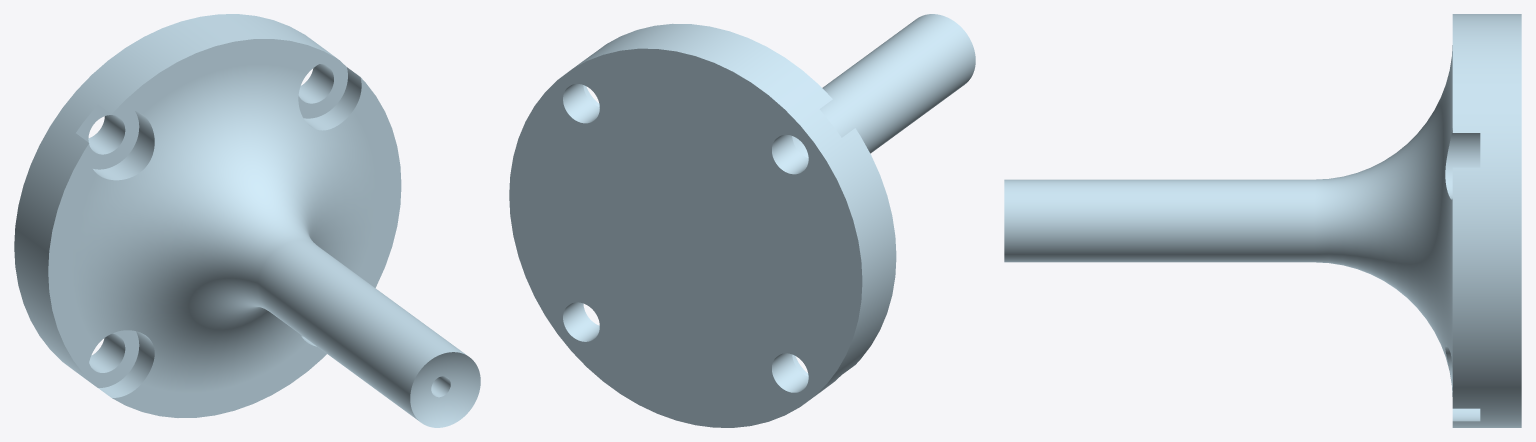
Rendered from pusher_body.gltf.
The picture shows the model from 3 angles, left to right: view 1: azimuth 30°, elevation 25°; view 2: azimuth 150°, elevation 25°; view 3: azimuth 270°, elevation 25°; orthographic projection.
Visible parts, largest first — view 1: mesh4, mesh13, mesh3, mesh7, mesh8, mesh5, mesh6, mesh2, mesh21, mesh12, mesh9, mesh11 (+5 smaller); view 2: mesh20, mesh13, mesh3, mesh19, mesh17, mesh15, mesh22; view 3: mesh13, mesh3, mesh4, mesh11, mesh10.
Part boxes in pixels (left/top/right/bottom): mesh4: left=71, top=64, right=377, bottom=392; mesh13: left=14, top=14, right=335, bottom=379; mesh3: left=257, top=240, right=466, bottom=421; mesh7: left=48, top=144, right=95, bottom=379; mesh8: left=112, top=39, right=337, bottom=113; mesh5: left=112, top=343, right=326, bottom=417; mesh6: left=353, top=77, right=401, bottom=287; mesh2: left=410, top=352, right=480, bottom=427; mesh21: left=76, top=104, right=139, bottom=169; mesh12: left=93, top=111, right=154, bottom=180; mesh9: left=98, top=331, right=154, bottom=397; mesh11: left=303, top=67, right=361, bottom=130; mesh20: left=509, top=48, right=862, bottom=427; mesh13: left=573, top=23, right=896, bottom=399; mesh3: left=819, top=14, right=975, bottom=153; mesh19: left=563, top=84, right=599, bottom=123; mesh17: left=563, top=302, right=599, bottom=341; mesh15: left=772, top=353, right=808, bottom=392; mesh22: left=772, top=134, right=808, bottom=174; mesh13: left=1452, top=14, right=1521, bottom=427; mesh3: left=1004, top=179, right=1314, bottom=262; mesh4: left=1314, top=45, right=1452, bottom=396; mesh11: left=1445, top=128, right=1480, bottom=199; mesh10: left=1445, top=346, right=1480, bottom=421.
Bounding box in the file's own units: 0.06 × 0.0599 × 0.0749.
